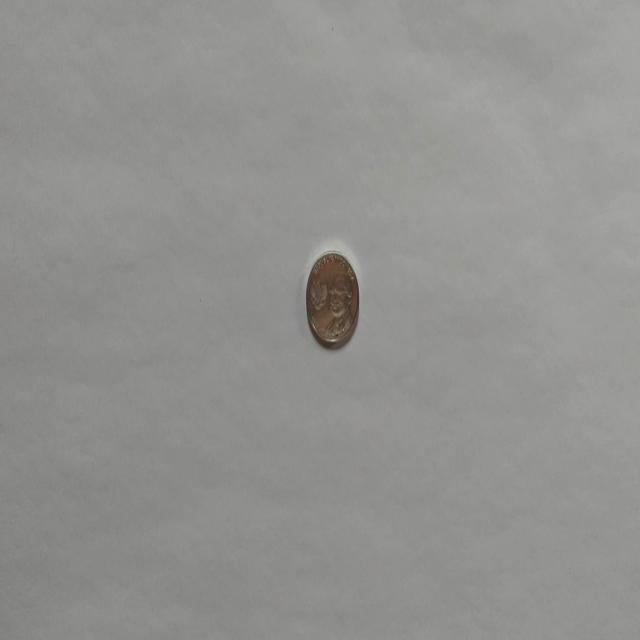lima ratus rupiah: (304, 250, 360, 348)
